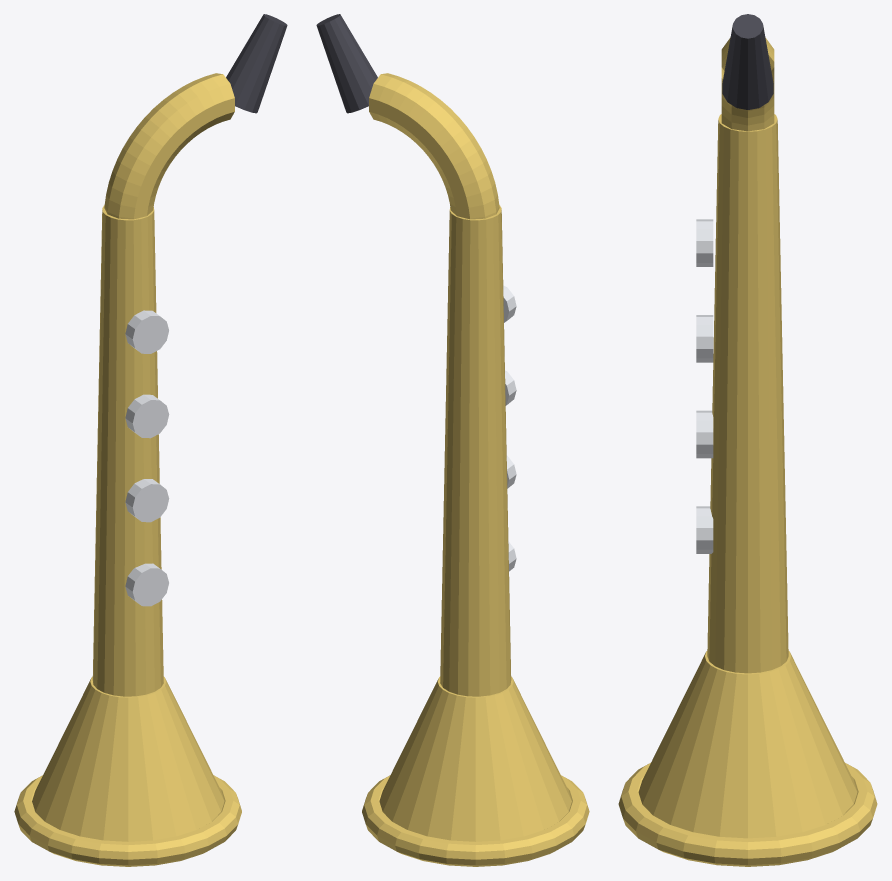
Rendered from saxophone.glb.
The picture shows the model from 3 angles, left to right: view 1: azimuth 30°, elevation 25°; view 2: azimuth 150°, elevation 25°; view 3: azimuth 270°, elevation 25°; orthographic projection. The views are drawn at different scales.
Bounding box in the file's own units: 0.7008 × 2.02 × 0.54.
